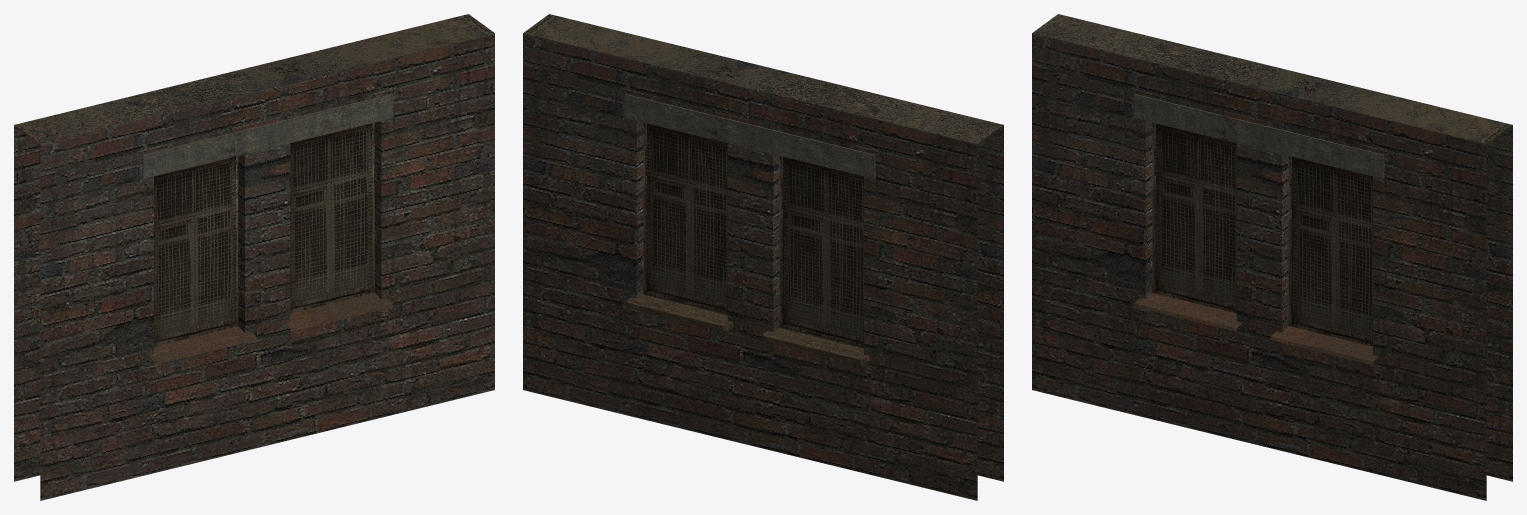
The model's file is windows_hs_1.glb.
The picture shows the model from 3 angles, left to right: view 1: azimuth 30°, elevation 25°; view 2: azimuth 150°, elevation 25°; view 3: azimuth 330°, elevation 25°; orthographic projection.
Parts seen in each view (by area): view 1: windows_hs_1; view 2: windows_hs_1; view 3: windows_hs_1.
Boxes of the visible parts, bbox=[...] form: windows_hs_1: bbox=[14, 14, 494, 500]; windows_hs_1: bbox=[523, 14, 1003, 500]; windows_hs_1: bbox=[1032, 14, 1512, 500].
Size of the model in its own units: 4 by 3 by 0.595.
Materials: 6 (6 with a texture image).
